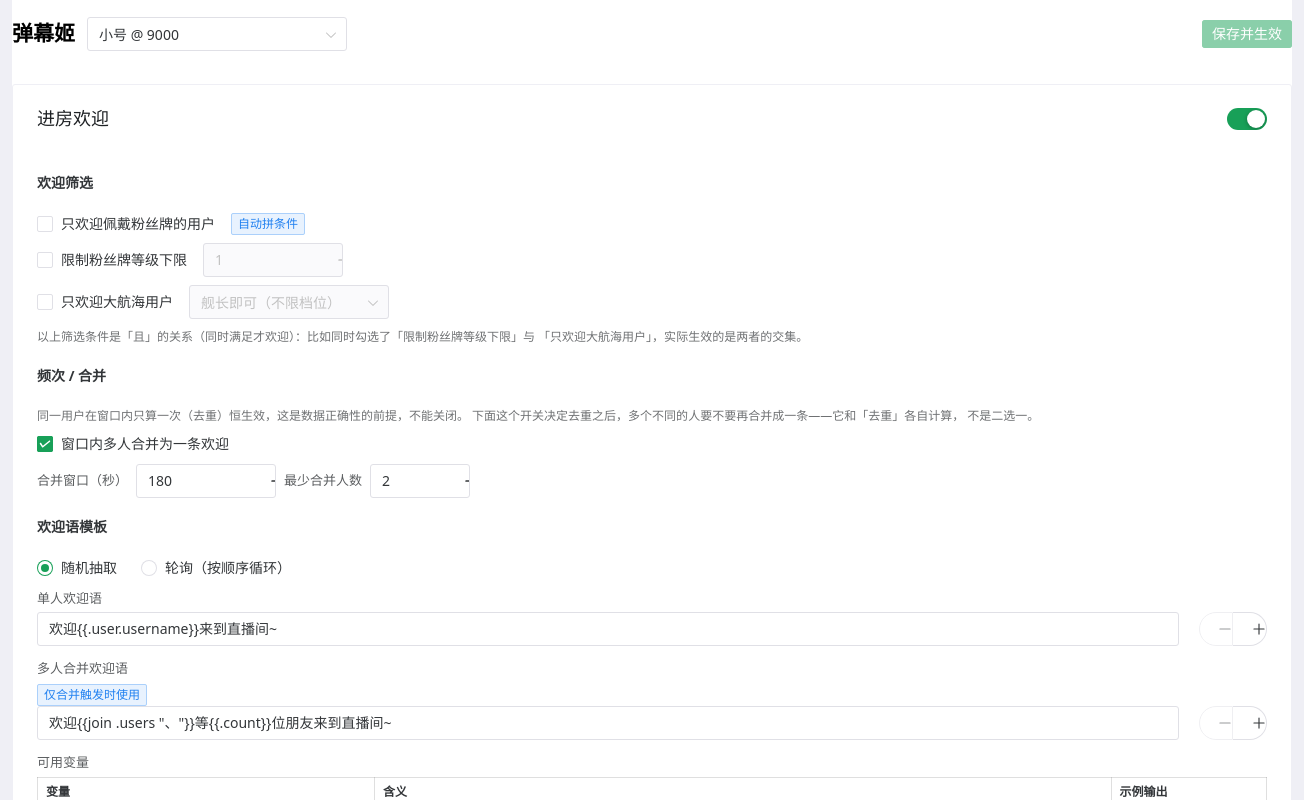
Test case: Danmaku 页面：保存（Task 13 接上 useDraft） › 点击「保存并生效」依次 GET → PUT → POST reload，成功后 dirty 归假、弹出成功提示
Step 1. Replace the text in the 4th field with placeholder "单人欢迎语模板" with "改过的模板" → x=608, y=629, box [49,612,1167,646]
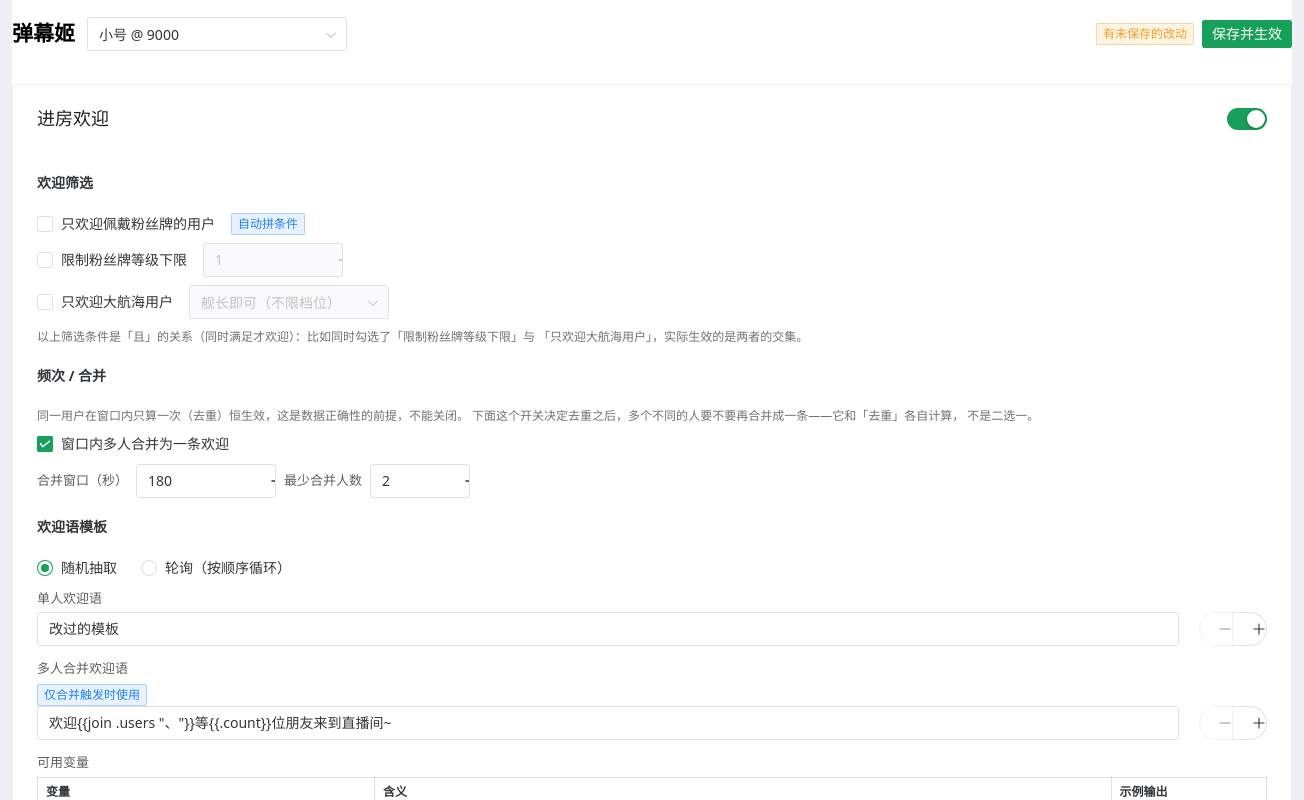
Step 2. Click the button "保存并生效" → x=1247, y=34, box [1202,20,1292,48]
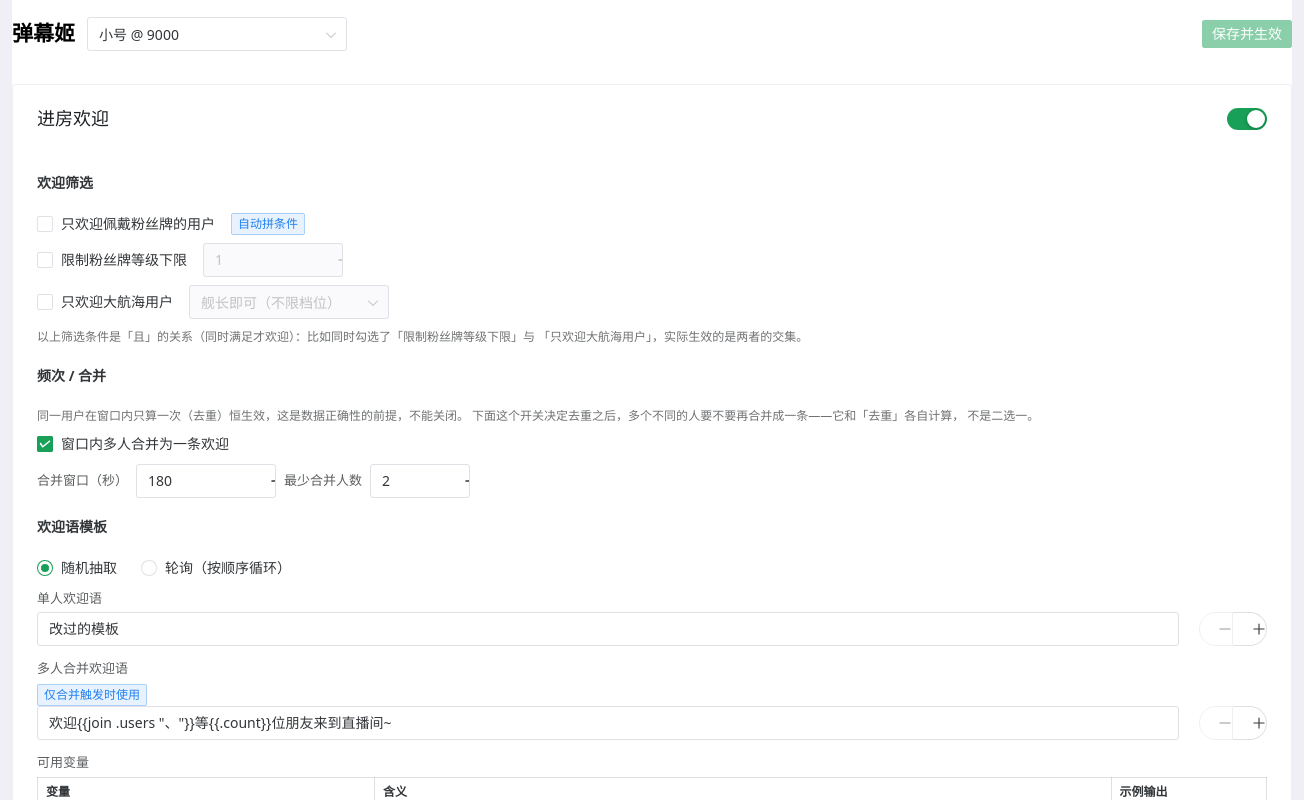
Now the text "有未保存的改动" is gone
Now the button "保存并生效" is disabled, box [1202,20,1292,48]
